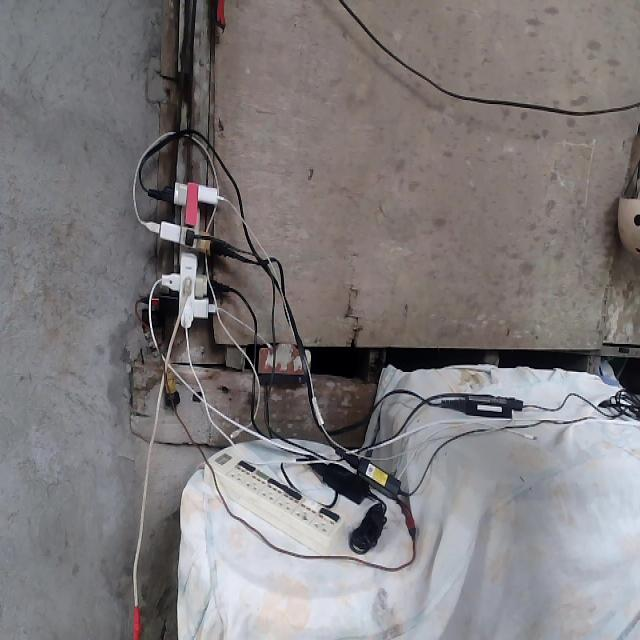-: (148, 179, 232, 328)
